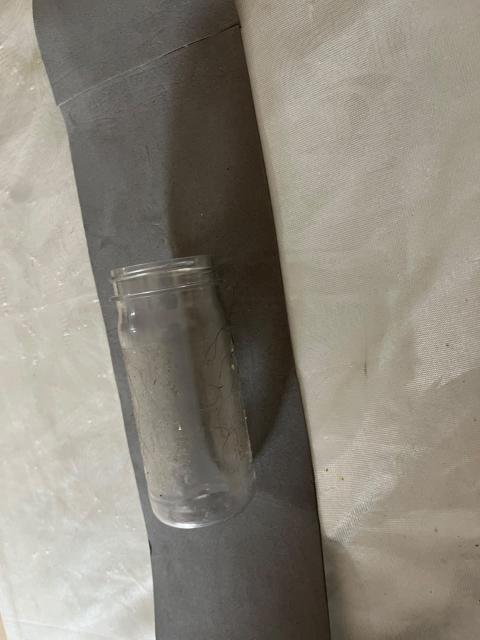PET: (73, 225, 285, 545)
